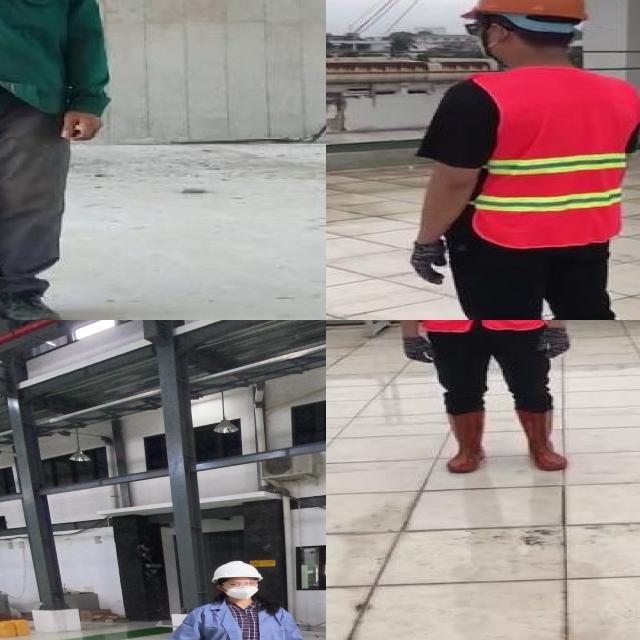boots: (516, 408, 570, 472), (440, 408, 490, 474)
face_mask: (222, 579, 260, 601)
glasses: (217, 579, 263, 590)
hand_glove: (412, 244, 454, 284), (533, 328, 571, 361), (402, 337, 441, 364)
hand_noglove: (59, 108, 108, 148)
head_helmet: (457, 0, 588, 22), (207, 560, 266, 582)
person: (389, 0, 640, 320), (0, 0, 117, 320), (377, 320, 585, 476), (164, 555, 317, 640)
shoes: (0, 273, 62, 320)
vest: (466, 68, 640, 246)
